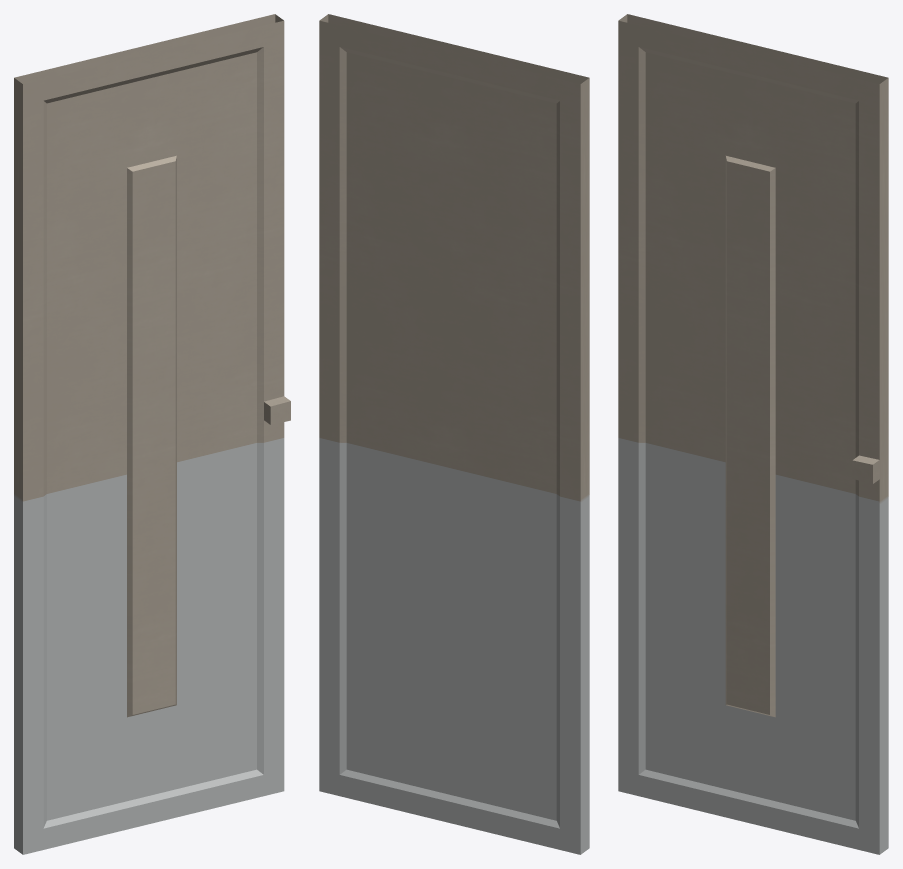
The model's file is SlideDoor.fbx.
3 renders of one model, left to right at view 1: azimuth 30°, elevation 25°; view 2: azimuth 150°, elevation 25°; view 3: azimuth 330°, elevation 25°, orthographic.
Visible parts, largest first — view 1: SlideDoor; view 2: SlideDoor; view 3: SlideDoor.
Boxes of the visible parts, x1,y1,x2,y2 form: SlideDoor: (14, 14, 290, 854); SlideDoor: (319, 14, 589, 854); SlideDoor: (618, 14, 888, 854).
Size of the model in its own units: 105 by 297 by 10.97.
